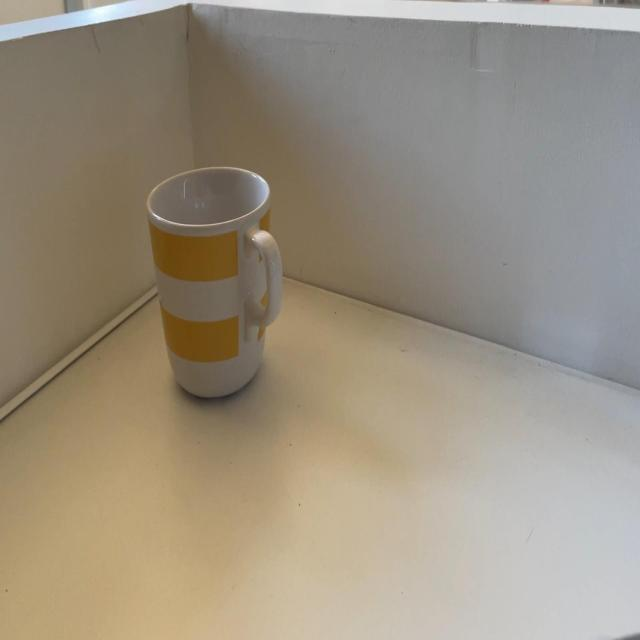cup: (139, 163, 294, 400)
